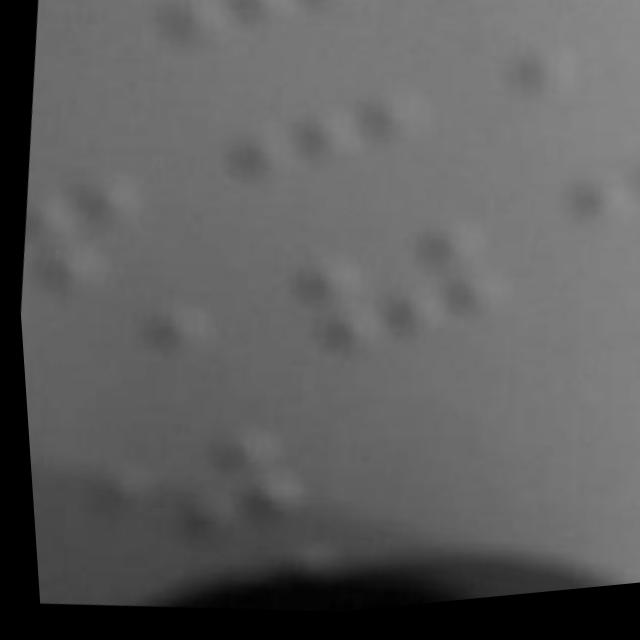braiile: (286, 218, 516, 398), (206, 80, 427, 263), (154, 0, 372, 112), (9, 168, 160, 328), (450, 0, 640, 51)
